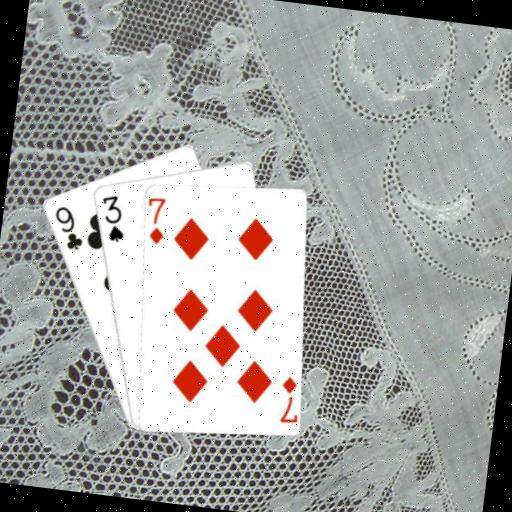3S: (94, 190, 130, 244)
7D: (142, 193, 170, 247), (275, 372, 302, 425)
9C: (47, 202, 88, 253)
